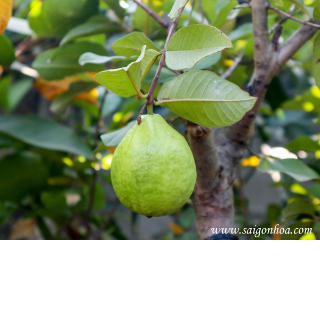oi: (104, 109, 199, 223)
